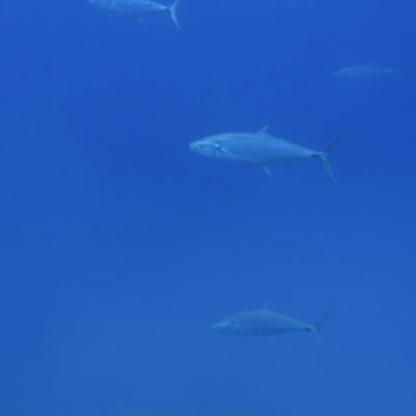Scombridae -Tunas-: (184, 115, 350, 184), (208, 301, 333, 355)
